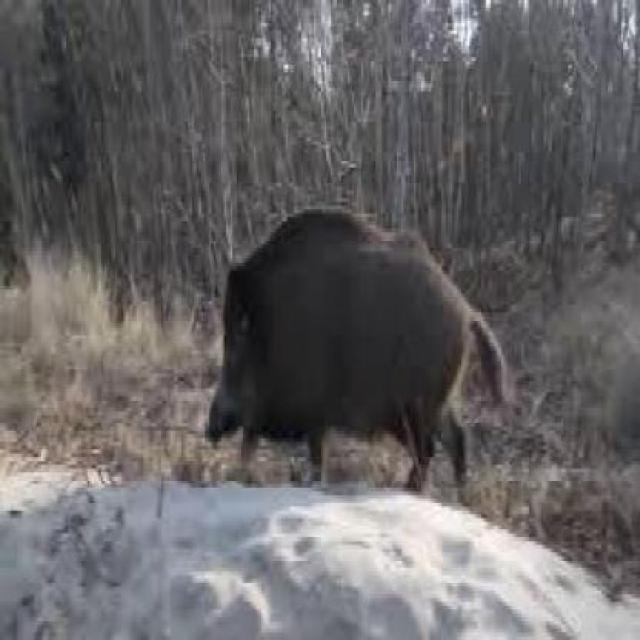wildboar: (202, 198, 513, 496)
